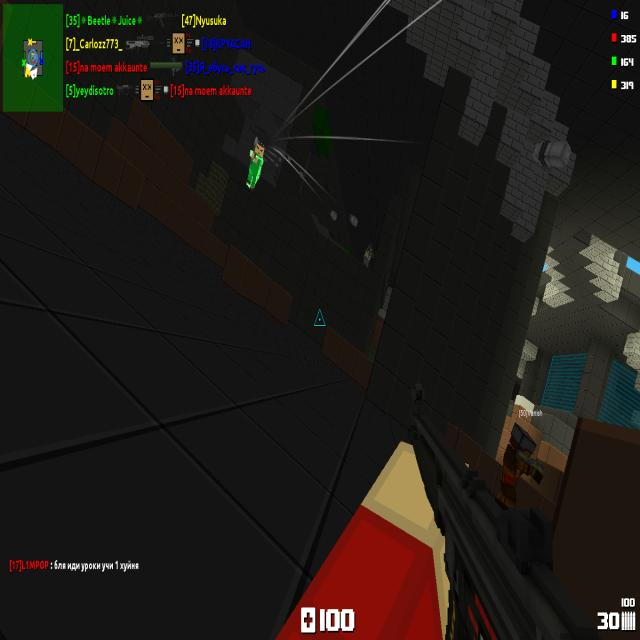enemy: (246, 138, 265, 192), (362, 243, 373, 266)
